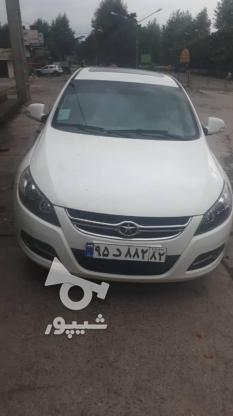car: (87, 244, 168, 263)
